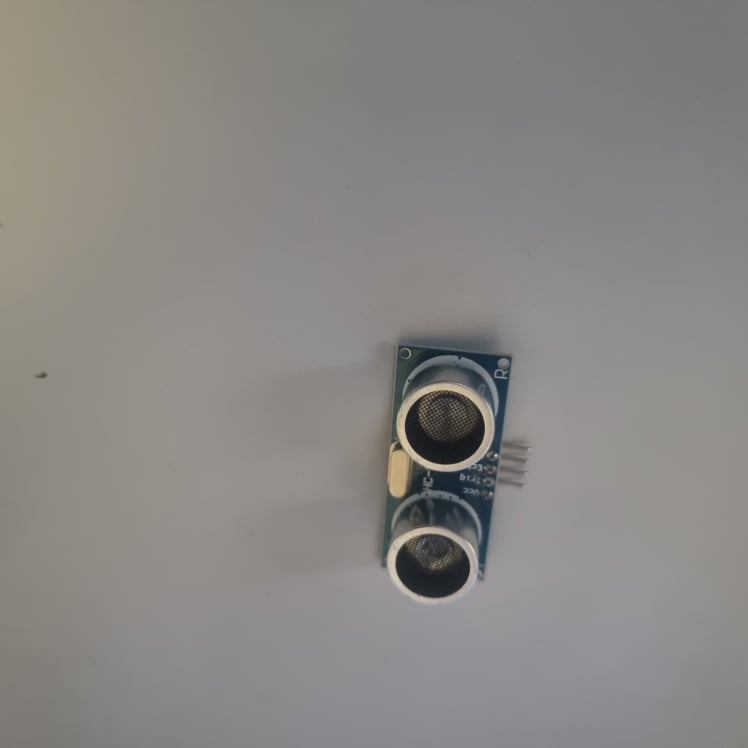SENSOR: (377, 343, 517, 607)
